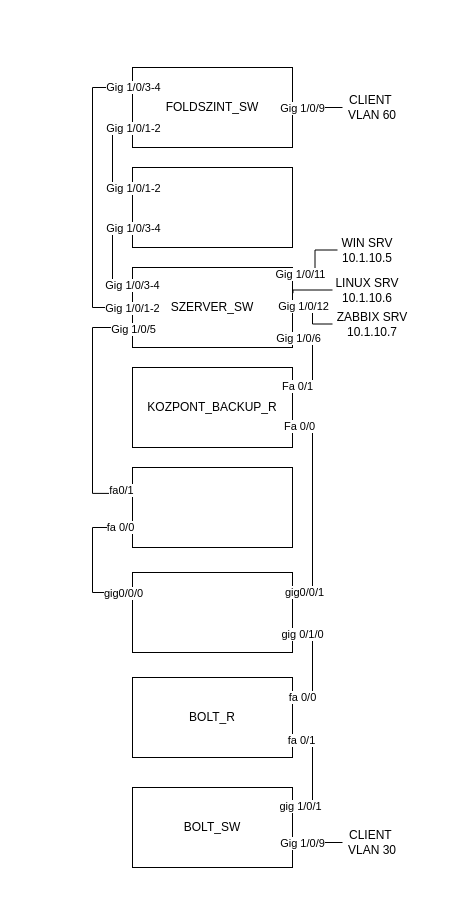
This 459x914 diagram has some shape labels left out. The shapes that lost their labels are listed below. From the top down, each one's centre as x and y in pixels, then its label:
the point at 212,207: EMELET_SW
the point at 212,507: KOZPONT_R
the point at 212,612: ISP
